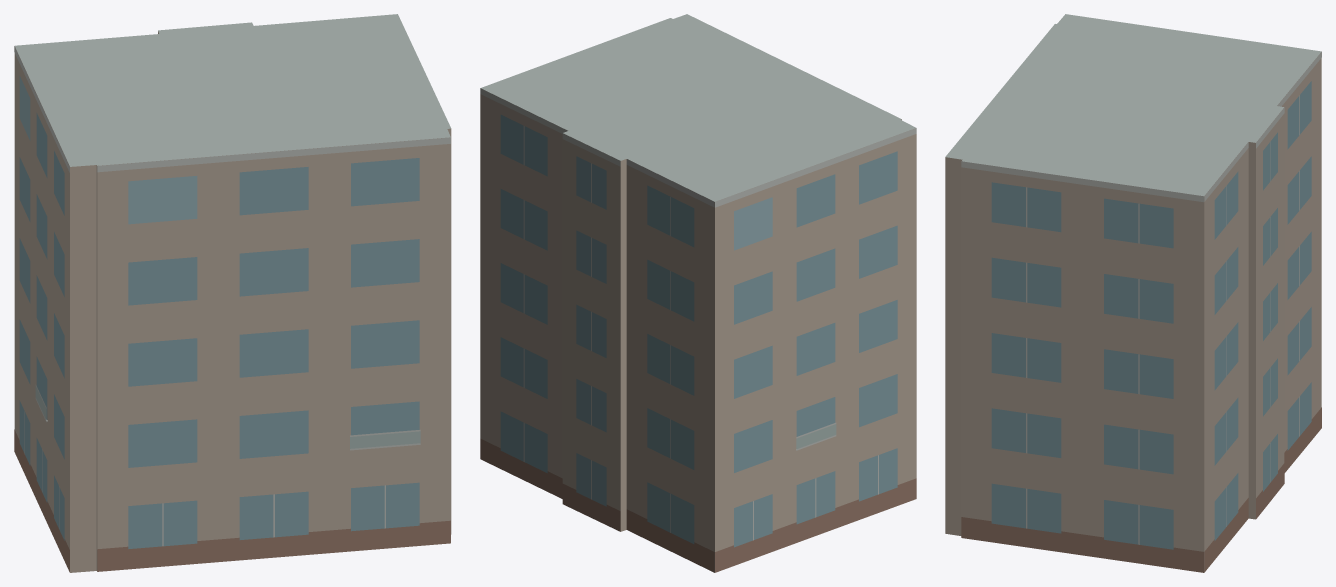
File: survey-upis-32713078.glb
3 views of the same model, side by side, from view 1: azimuth 30°, elevation 25°; view 2: azimuth 150°, elevation 25°; view 3: azimuth 270°, elevation 25° (orthographic). The views are drawn at different scales.
Parts seen in each view (by area): view 1: survey-upis-32713078.tmp; view 2: survey-upis-32713078.tmp; view 3: survey-upis-32713078.tmp.
Boxes of the visible parts, box(x1,y1,x2,y2) form: survey-upis-32713078.tmp: box(14, 14, 451, 572); survey-upis-32713078.tmp: box(480, 14, 916, 572); survey-upis-32713078.tmp: box(945, 14, 1321, 572).
Bounding box in the file's own units: 15.83 × 15.25 × 13.83.
